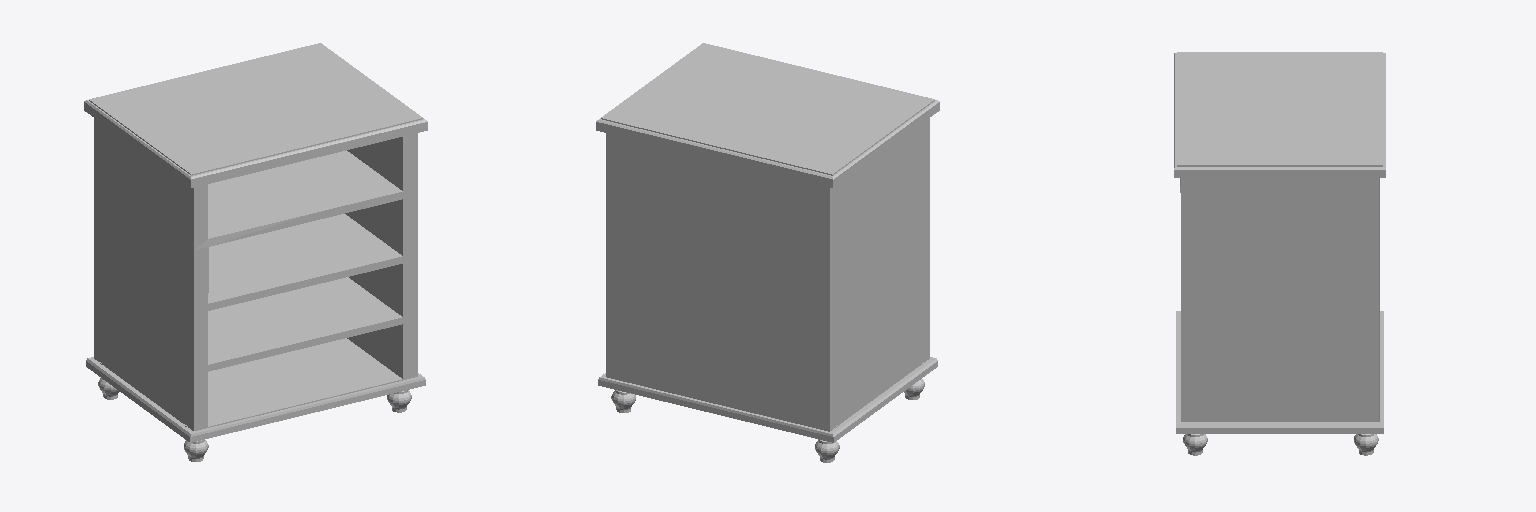
The model's file is SmallChestOfDrawersFrame.obj.
3 views of the same model, side by side, from view 1: azimuth 30°, elevation 25°; view 2: azimuth 150°, elevation 25°; view 3: azimuth 270°, elevation 25° (orthographic).
Parts seen in each view (by area): view 1: Plane_007; view 2: Plane_007; view 3: Plane_007.
Part boxes in pixels (left/top/right/bottom): Plane_007: left=84, top=43, right=427, bottom=461; Plane_007: left=596, top=43, right=939, bottom=462; Plane_007: left=1174, top=52, right=1385, bottom=455.
Size of the model in its own units: 0.7395 by 0.8772 by 0.5747.